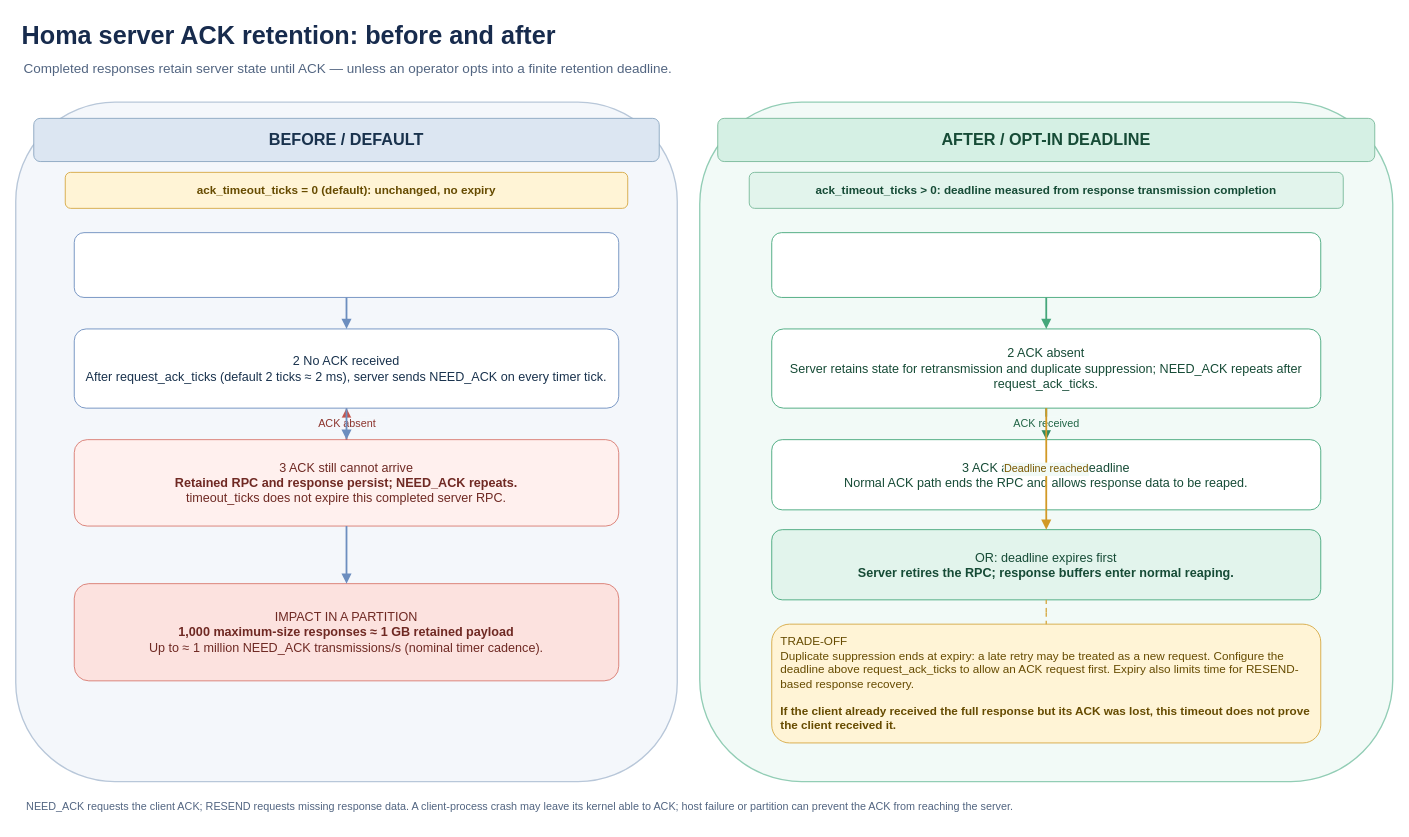
The diagram is 1409 pixels wide and 837 high, and some of its shapes have lost their labels. The shapes that lost their labels are listed below. From the top down, each one's box as (x1, y1, x2, y2) in pixels, then its label:
(73, 232, 619, 297): 1 Response fully transmitted Server keeps RPC + response data
(771, 232, 1321, 297): 1 Response fully transmitted Server starts the ACK-retention clock
